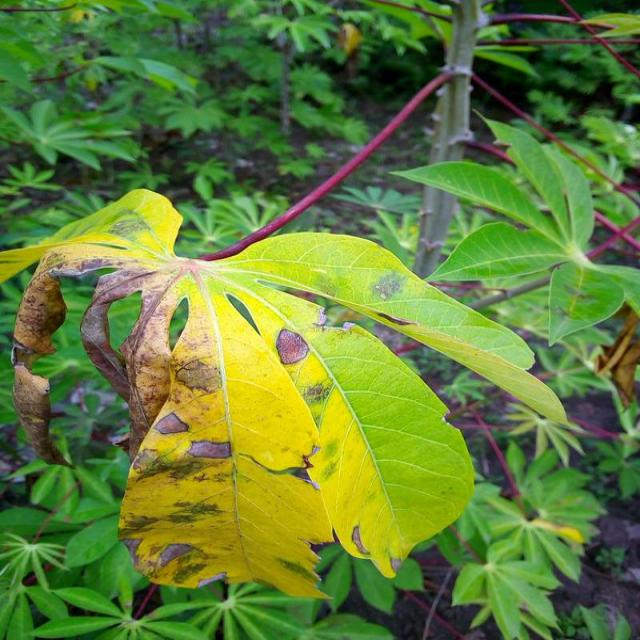cassava leaf: (9, 186, 566, 602)
